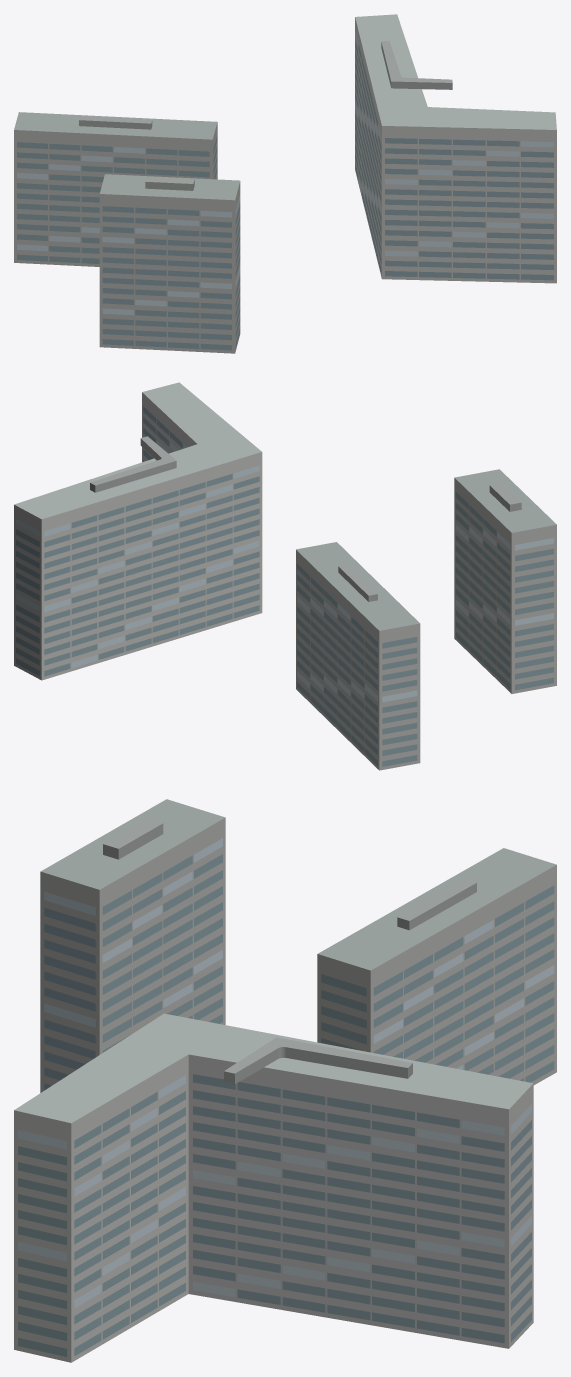
Rendered from apt-a15005001.glb.
The picture shows the model from 3 angles, top to bottom: view 1: azimuth 30°, elevation 25°; view 2: azimuth 150°, elevation 25°; view 3: azimuth 270°, elevation 25°; orthographic projection. The views are drawn at different scales.
Parts seen in each view (by area): view 1: apt-a15005001; view 2: apt-a15005001; view 3: apt-a15005001.
Boxes of the visible parts, box(x1,y1,x2,y2) form: apt-a15005001: box(14, 14, 556, 353); apt-a15005001: box(14, 382, 556, 770); apt-a15005001: box(14, 799, 556, 1362).
Bounding box in the file's own units: 133 × 47.81 × 93.99.
